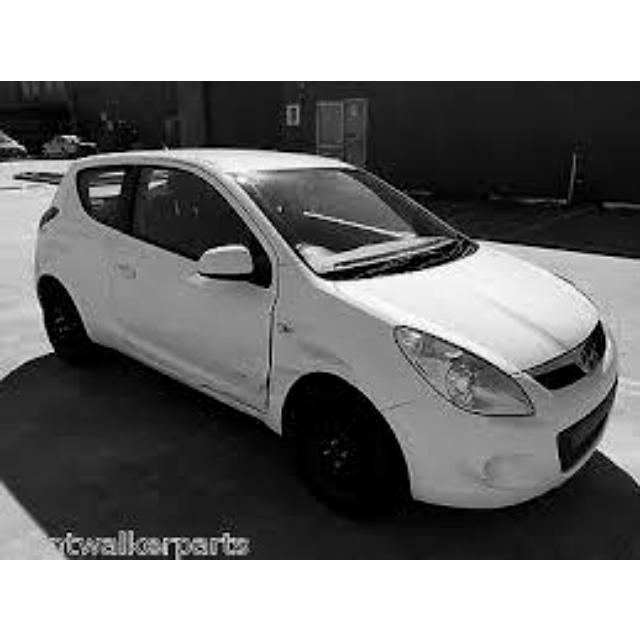fender-dent: (280, 285, 388, 393)
